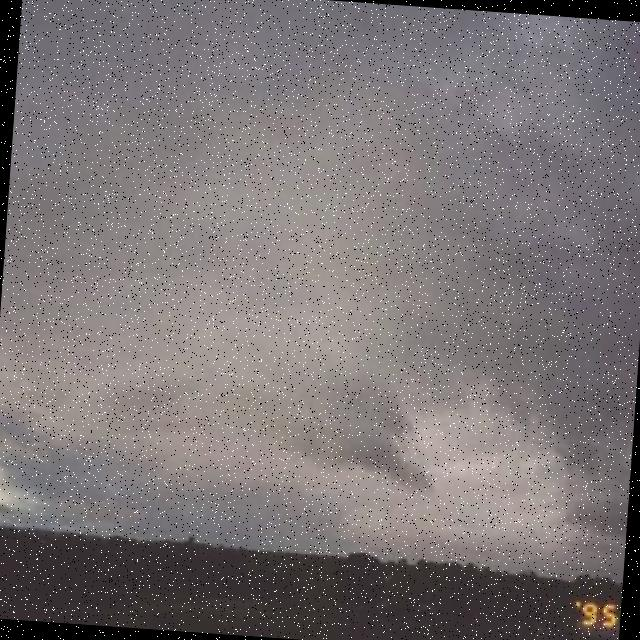St: (1, 1, 640, 547)
